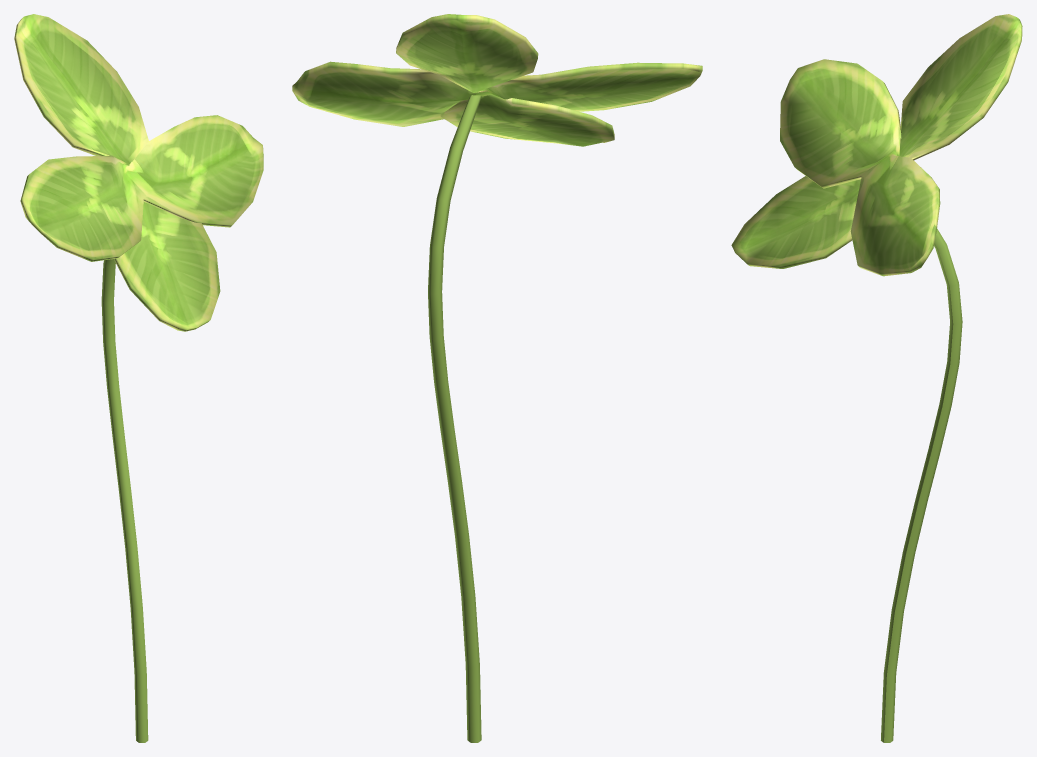
Rendered from 4leaf with backface.fbx.
3 views of the same model, side by side, from view 1: azimuth 30°, elevation 25°; view 2: azimuth 150°, elevation 25°; view 3: azimuth 270°, elevation 25° (orthographic). The views are drawn at different scales.
Parts seen in each view (by area): view 1: Plane.001_Plane.002; view 2: Plane.001_Plane.002; view 3: Plane.001_Plane.002.
Part boxes in pixels (box(x1,y1,x2,y2)): Plane.001_Plane.002: box(14, 14, 263, 742); Plane.001_Plane.002: box(292, 14, 702, 742); Plane.001_Plane.002: box(731, 14, 1022, 742).
Bounding box in the file's own units: 0.9093 × 2.03 × 0.769.
